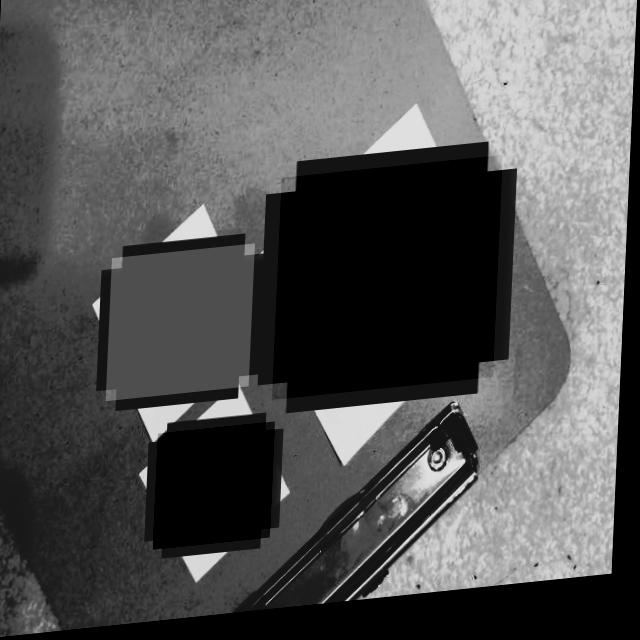qr_code: (275, 166, 504, 406), (109, 249, 257, 404), (157, 428, 278, 554)
